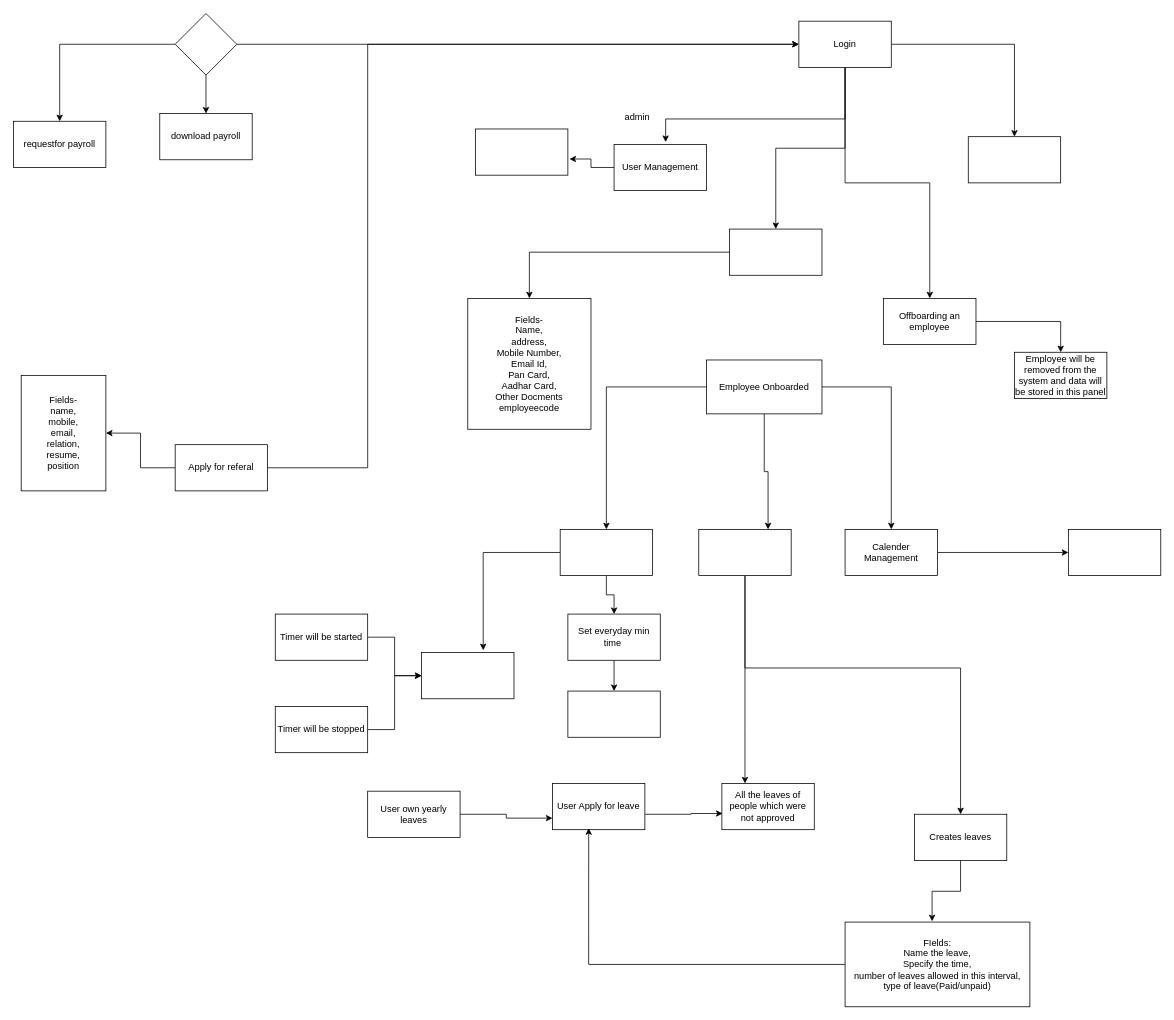
The diagram is 1174 pixels wide and 1020 high, and some of its shapes have lost their labels. Here are the shapes that lost their labels. From the top down, the box of each, then its label:
(174, 13, 237, 75): Get payroll
(475, 128, 568, 175): Create, edit and delete old user or new users
(968, 136, 1061, 183): Chat within Application in real time with employees
(729, 228, 822, 275): New Employee Onboarding
(559, 529, 653, 576): Timer Management
(698, 529, 791, 576): Leave Management
(1068, 529, 1161, 576): Add leave to the calender
(421, 652, 514, 699): Timer panel for the respective manager, or permitted user
(567, 690, 660, 737): Fields Min time --max time
